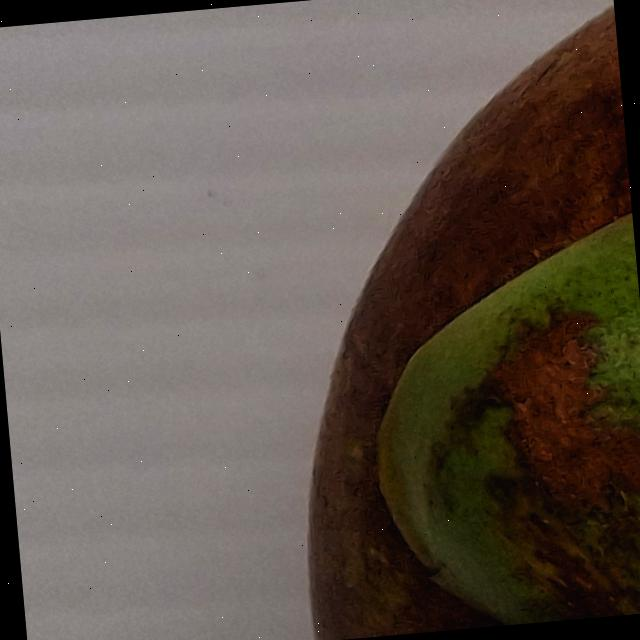mangosteen: (207, 0, 640, 640)
